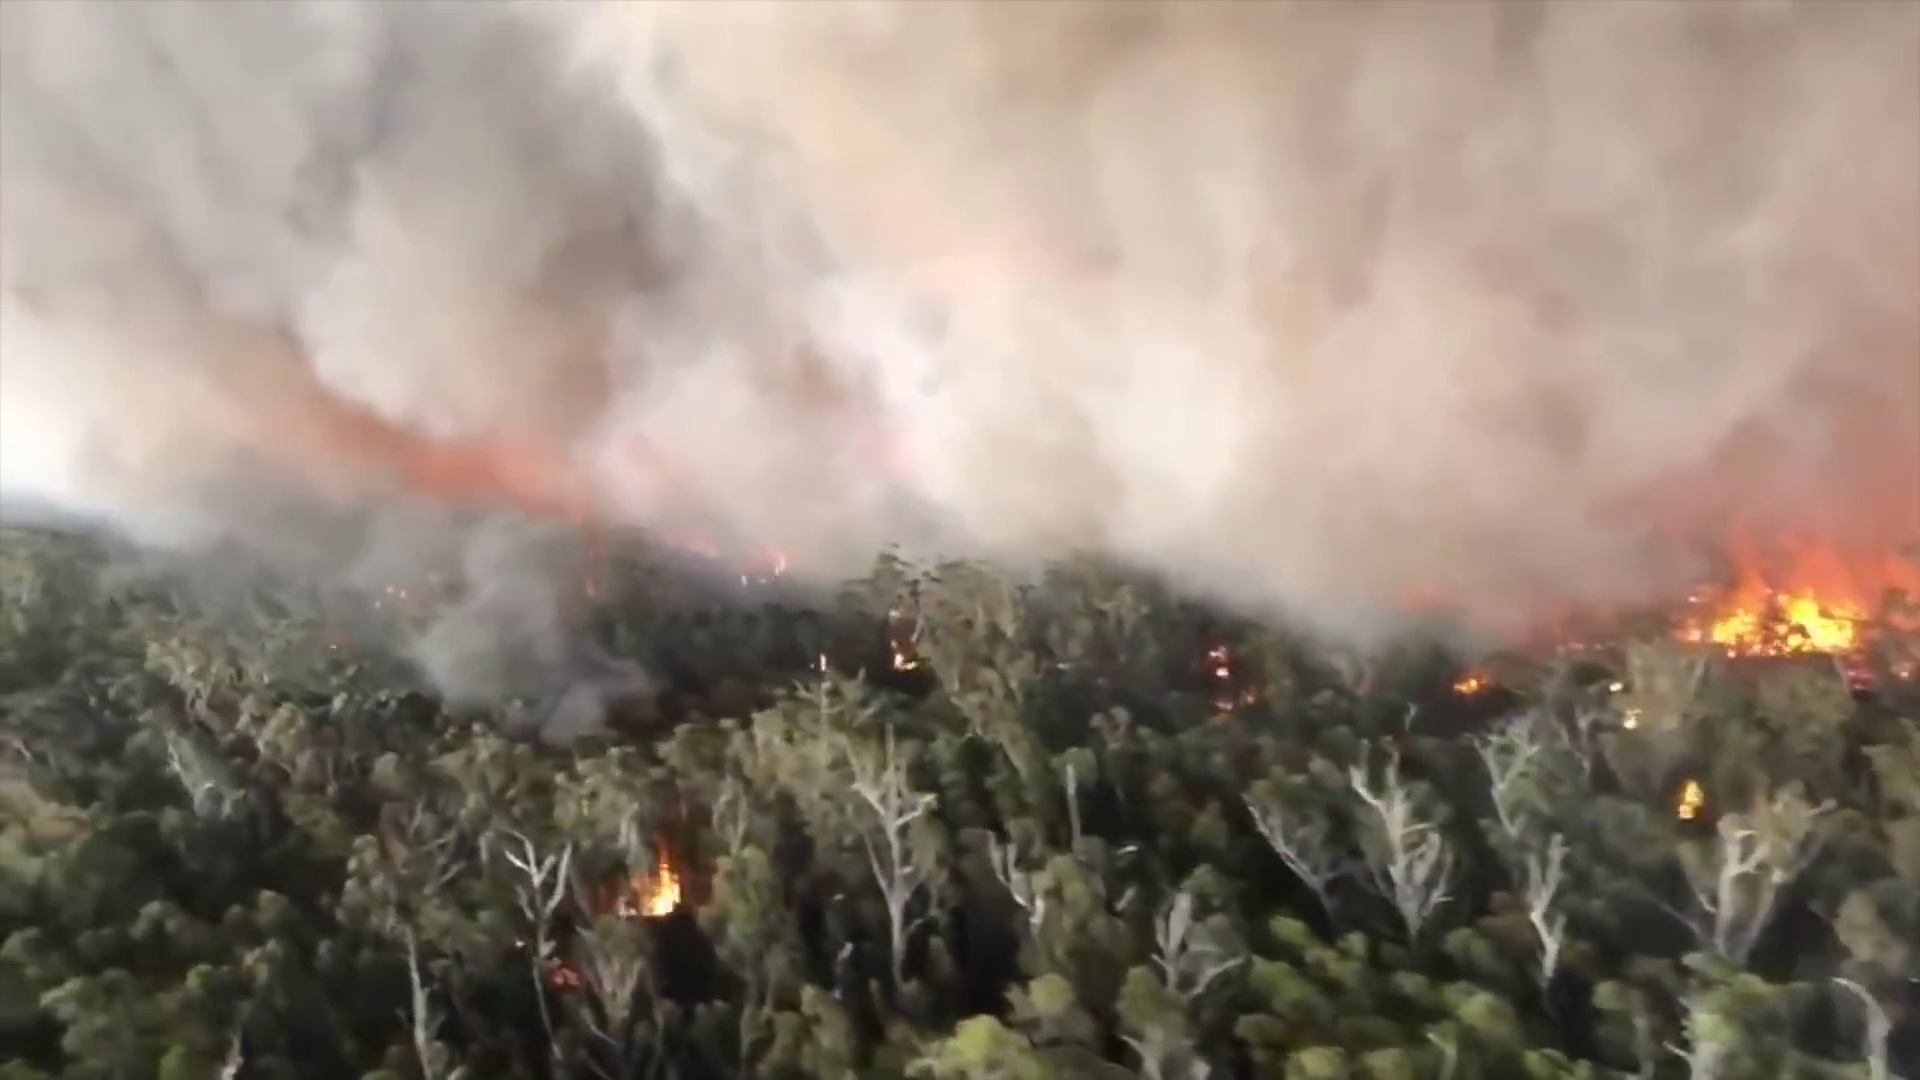fire: (1720, 585, 1851, 651), (645, 865, 676, 913)
